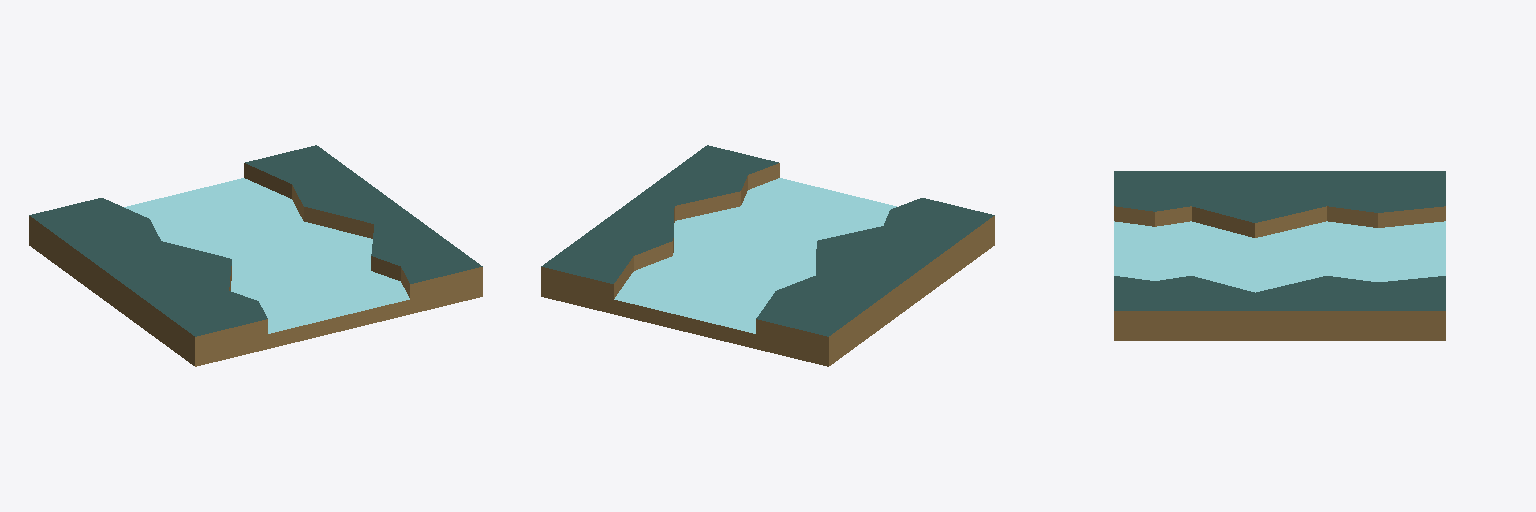
3 views of the same model, side by side, from view 1: azimuth 30°, elevation 25°; view 2: azimuth 150°, elevation 25°; view 3: azimuth 270°, elevation 25° (orthographic).
Parts seen in each view (by area): view 1: Mesh1_Plate_River_Dirt_Model; view 2: Mesh1_Plate_River_Dirt_Model; view 3: Mesh1_Plate_River_Dirt_Model.
Boxes of the visible parts, x1=… form: Mesh1_Plate_River_Dirt_Model: x1=29, y1=145, x2=482, y2=366; Mesh1_Plate_River_Dirt_Model: x1=541, y1=145, x2=994, y2=366; Mesh1_Plate_River_Dirt_Model: x1=1114, y1=171, x2=1445, y2=340.
Size of the model in its own units: 3 by 0.3 by 3.